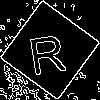R: (25, 25, 68, 76)
